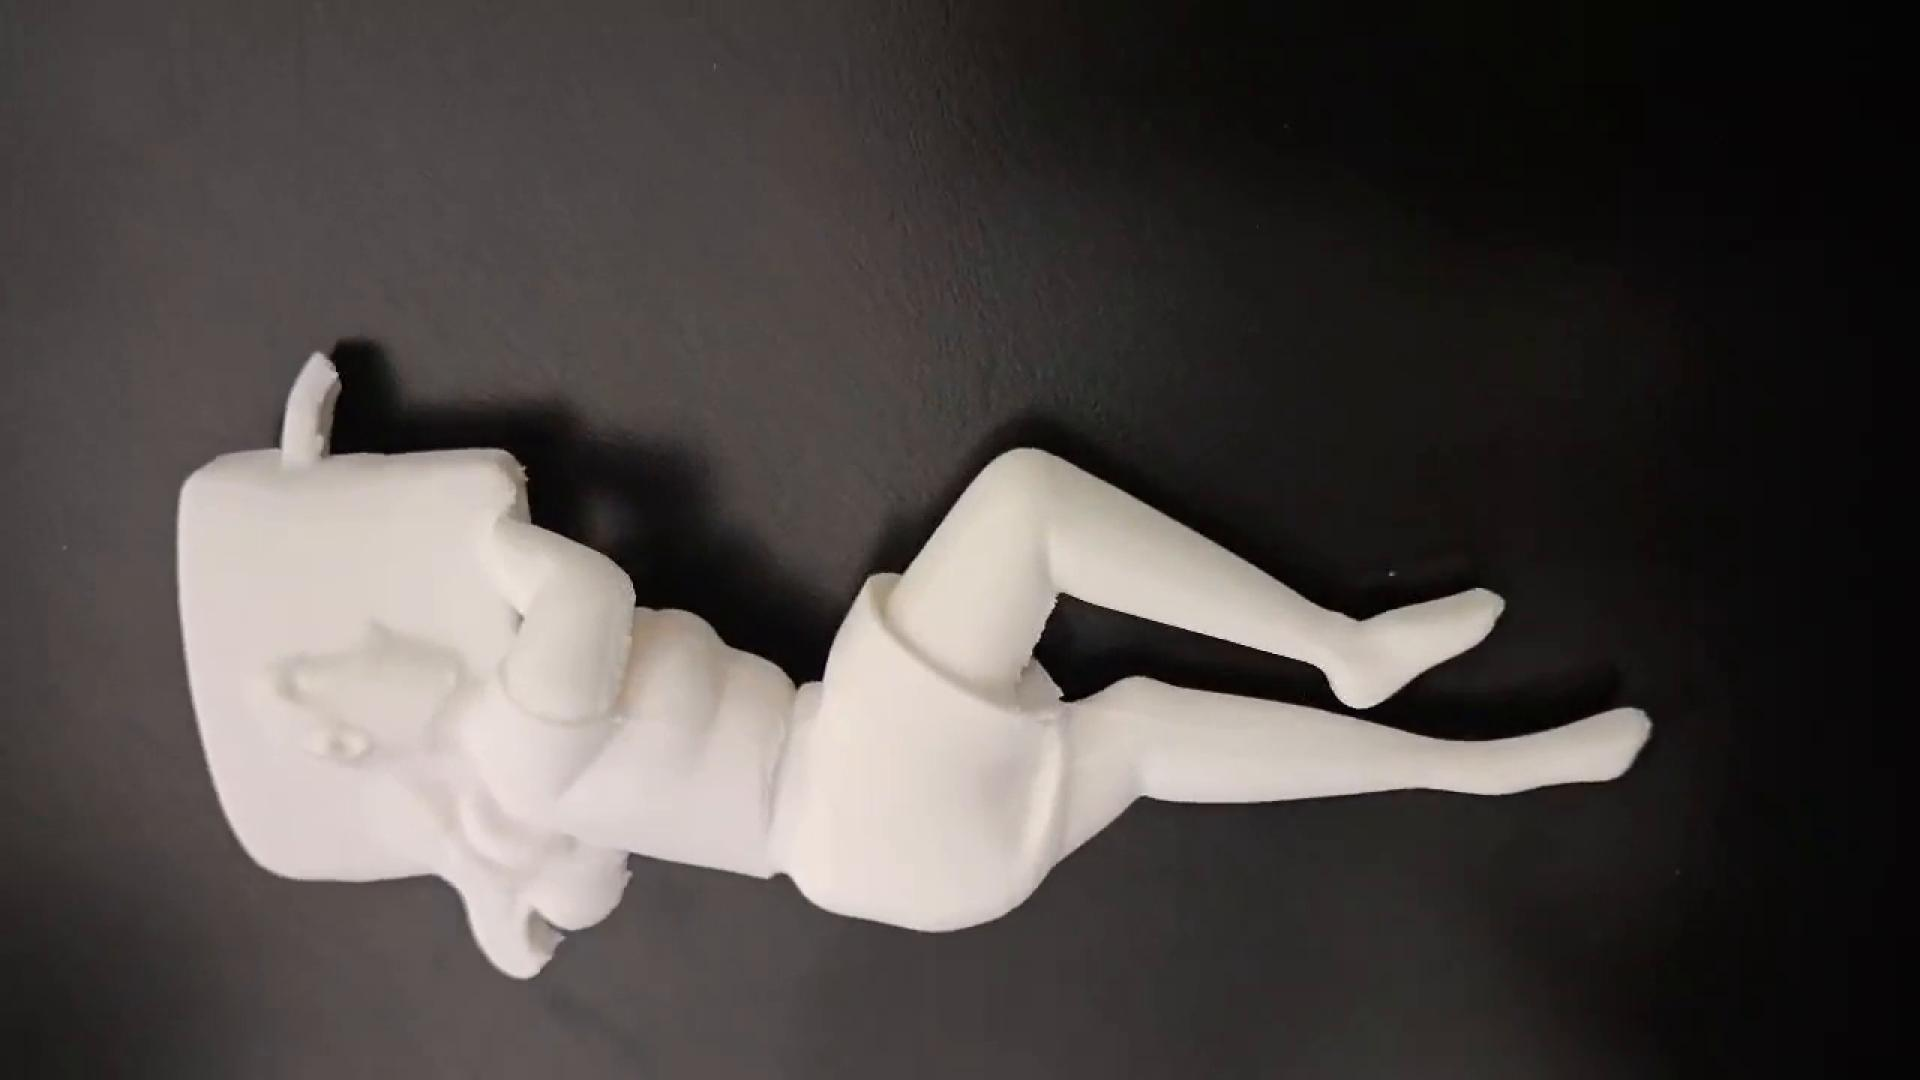Good-style: (166, 347, 1655, 980)
